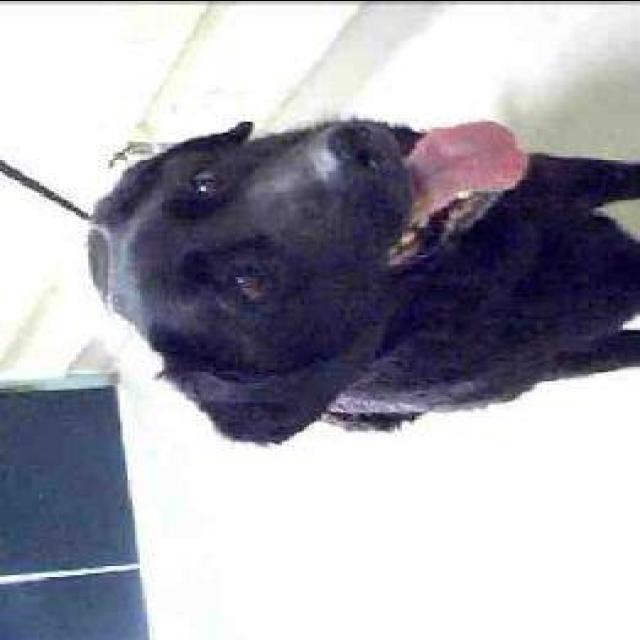dog: (73, 63, 640, 462)
